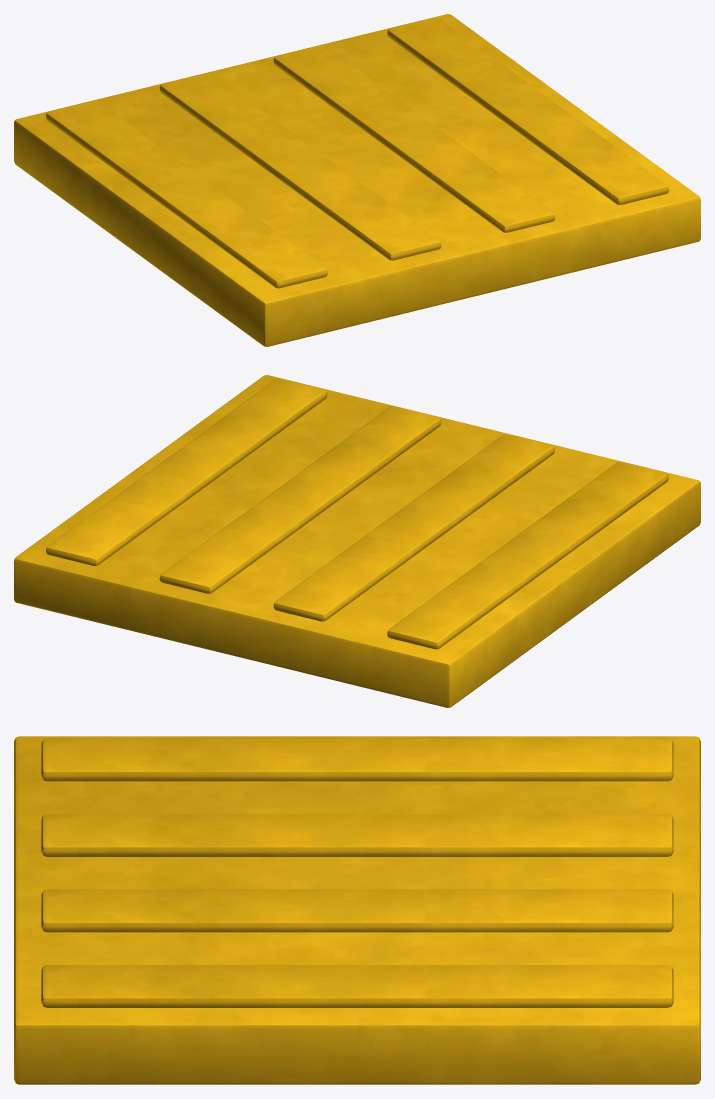
Rendered from PAV-CAL-005.glb.
3 views of the same model, one above another, from view 1: azimuth 30°, elevation 25°; view 2: azimuth 150°, elevation 25°; view 3: azimuth 270°, elevation 25° (orthographic). The views are drawn at different scales.
Parts seen in each view (by area): view 1: PAV-CAL-005_placa, PAV-CAL-005_barra1, PAV-CAL-005_barra2, PAV-CAL-005_barra3, PAV-CAL-005_barra0; view 2: PAV-CAL-005_placa, PAV-CAL-005_barra1, PAV-CAL-005_barra2, PAV-CAL-005_barra3, PAV-CAL-005_barra0; view 3: PAV-CAL-005_placa, PAV-CAL-005_barra0, PAV-CAL-005_barra2, PAV-CAL-005_barra1, PAV-CAL-005_barra3.
Boxes of the visible parts, x1,y1,x2,y2 form: PAV-CAL-005_placa: (14,14,700,346); PAV-CAL-005_barra1: (159,73,441,260); PAV-CAL-005_barra2: (273,45,555,232); PAV-CAL-005_barra3: (387,17,668,204); PAV-CAL-005_barra0: (46,101,327,288); PAV-CAL-005_placa: (14,375,700,707); PAV-CAL-005_barra1: (273,434,555,621); PAV-CAL-005_barra2: (159,406,441,593); PAV-CAL-005_barra3: (46,378,327,565); PAV-CAL-005_barra0: (387,462,668,649); PAV-CAL-005_placa: (14,736,700,1084); PAV-CAL-005_barra0: (41,738,673,781); PAV-CAL-005_barra2: (41,889,673,932); PAV-CAL-005_barra1: (41,814,673,856); PAV-CAL-005_barra3: (41,965,673,1007).
Bounding box in the file's own units: 0.25 × 0.03 × 0.25.
Materials: 1 (1 with a texture image).
